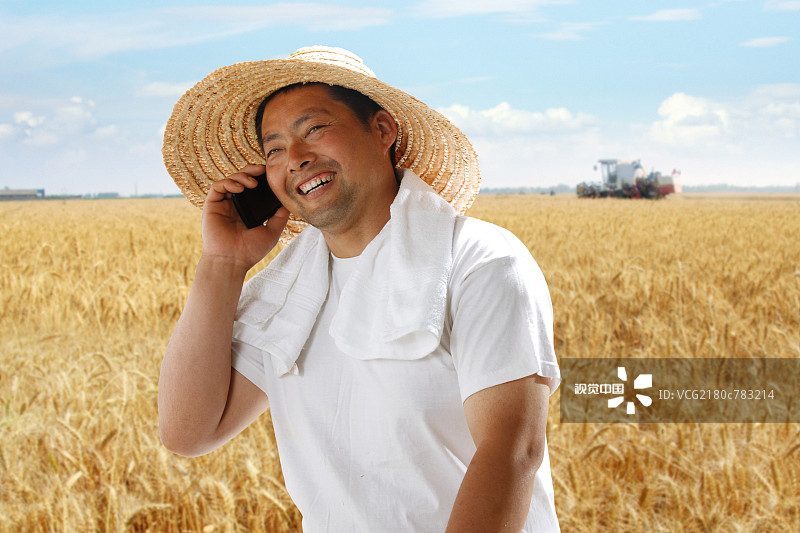calling: (181, 144, 304, 283)
